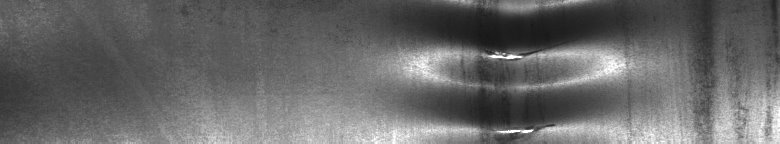ke: (436, 4, 589, 136)
